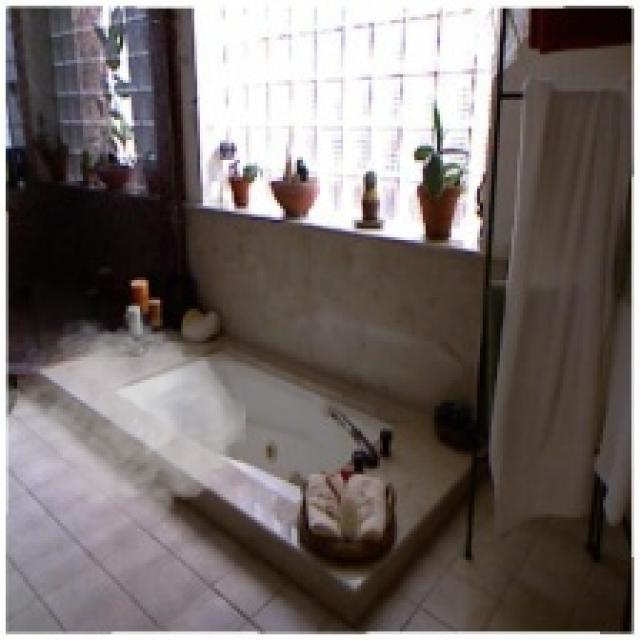smoke: (17, 311, 246, 523)
